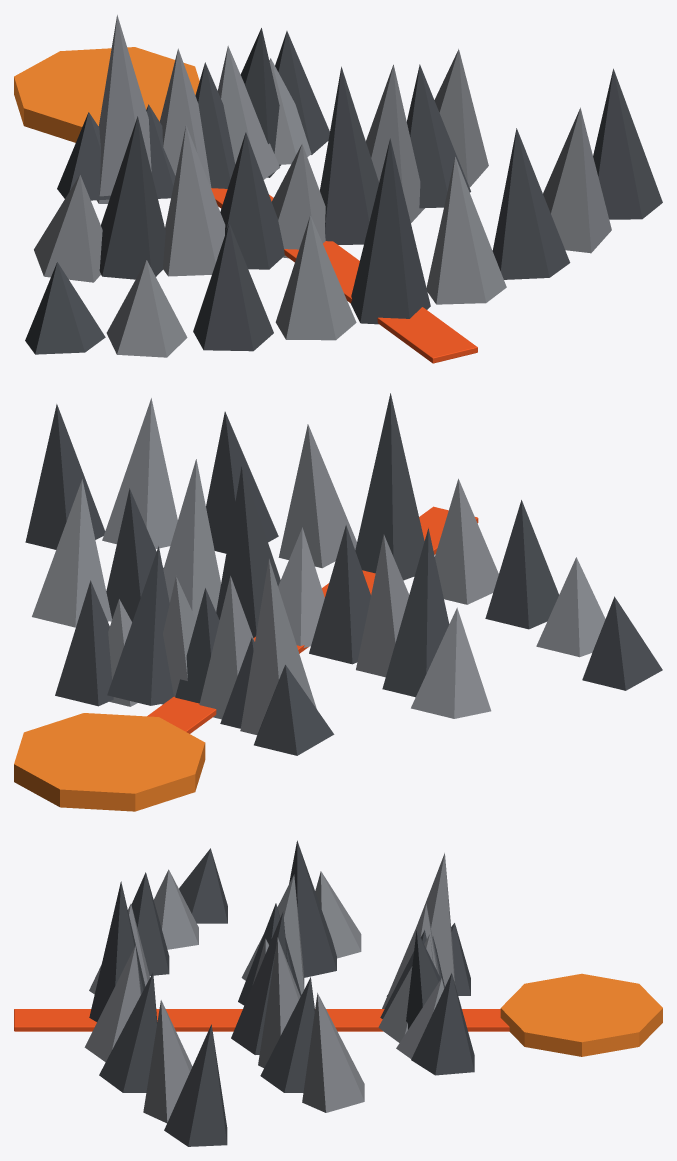
The model's file is earth_rift.glb.
3 renders of one model, top to bottom at view 1: azimuth 30°, elevation 25°; view 2: azimuth 150°, elevation 25°; view 3: azimuth 270°, elevation 25°, orthographic. The views are drawn at different scales.
Visible parts, largest first — view 1: impact, spike_4_2, spike_1_1, spike_5_2, spike_6_2, spike_5_1, spike_2_1, spike_8_2, spike_2_2, spike_7_2, spike_3_2, spike_3_1 (+17 smaller); view 2: impact, spike_4_2, spike_6_0, spike_8_1, spike_1_1, spike_5_2, spike_2_2, spike_1_0, spike_7_2, spike_8_2, spike_3_1, spike_6_1 (+17 smaller); view 3: impact, fissure, spike_8_2, spike_8_1, spike_8_0, spike_6_2, spike_7_2, spike_7_1, spike_1_1, spike_4_2, spike_5_2, spike_5_1 (+14 smaller).
Boxes of the visible parts, bbox=[...] form: impact: bbox=[14, 47, 199, 142]; spike_4_2: bbox=[350, 138, 430, 324]; spike_1_1: bbox=[99, 116, 165, 279]; spike_5_2: bbox=[426, 156, 506, 304]; spike_6_2: bbox=[492, 128, 570, 279]; spike_5_1: bbox=[320, 66, 378, 244]; spike_2_1: bbox=[162, 125, 225, 276]; spike_8_2: bbox=[593, 68, 662, 219]; spike_2_2: bbox=[193, 223, 273, 351]; spike_7_2: bbox=[543, 107, 611, 253]; spike_3_2: bbox=[275, 215, 356, 340]; spike_3_1: bbox=[220, 132, 284, 269]; impact: bbox=[14, 713, 205, 811]; spike_4_2: bbox=[355, 393, 424, 580]; spike_6_0: bbox=[107, 546, 173, 705]; spike_8_1: bbox=[32, 479, 112, 627]; spike_1_1: bbox=[382, 528, 449, 697]; spike_5_2: bbox=[278, 424, 356, 568]; spike_2_2: bbox=[485, 500, 558, 629]; spike_1_0: bbox=[240, 559, 316, 734]; spike_7_2: bbox=[102, 398, 177, 548]; spike_8_2: bbox=[25, 404, 105, 549]; spike_3_1: bbox=[309, 525, 370, 664]; spike_6_1: bbox=[163, 459, 220, 619]; impact: bbox=[500, 973, 662, 1056]; fissure: bbox=[14, 1009, 509, 1031]; spike_8_2: bbox=[164, 1024, 227, 1146]; spike_8_1: bbox=[302, 993, 364, 1112]; spike_8_0: bbox=[411, 973, 474, 1075]; spike_6_2: bbox=[99, 972, 157, 1092]; spike_7_2: bbox=[143, 1000, 192, 1123]; spike_7_1: bbox=[260, 977, 314, 1092]; spike_1_1: bbox=[289, 840, 336, 977]; spike_4_2: bbox=[89, 881, 145, 1021]; spike_5_2: bbox=[84, 945, 141, 1061]; spike_5_1: bbox=[231, 911, 287, 1054].
Size of the model in its own units: 2.2 by 0.5977 by 2.4.
